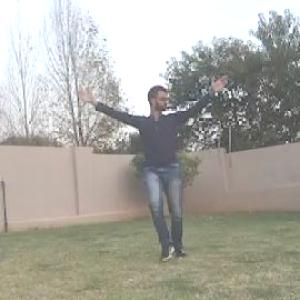takeoff: (77, 55, 241, 261)
